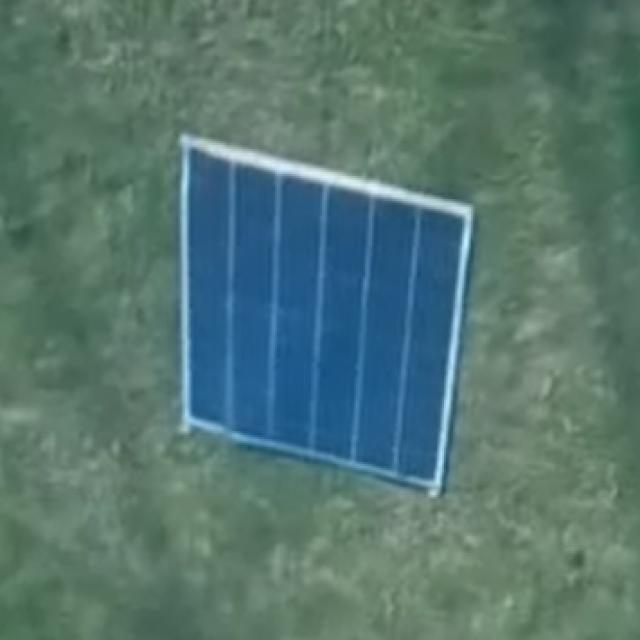no faulty: (176, 149, 449, 483)
